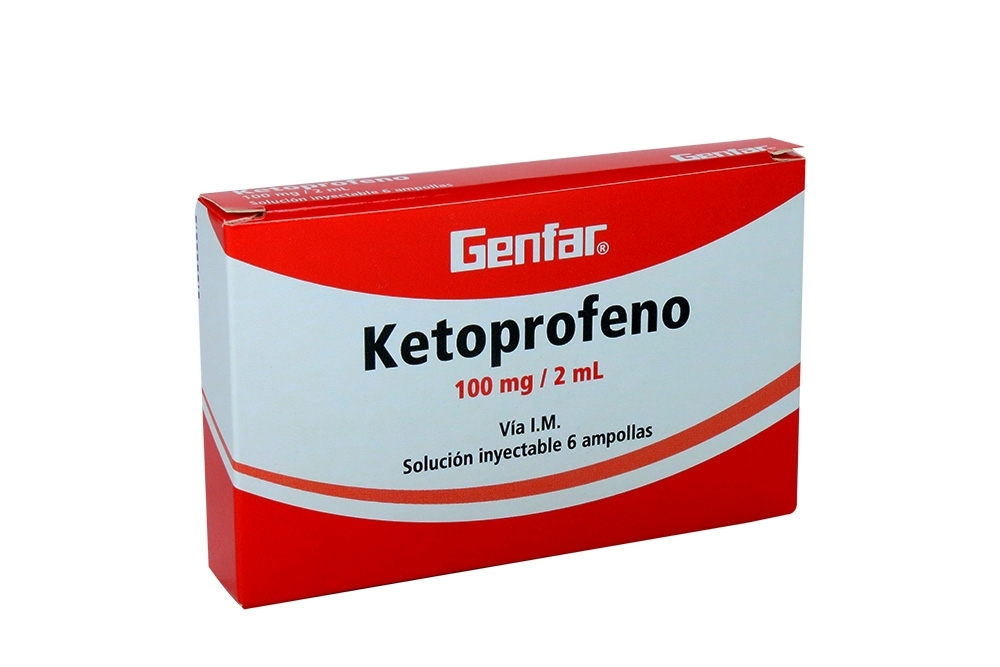Genfar: (232, 176, 804, 601)
